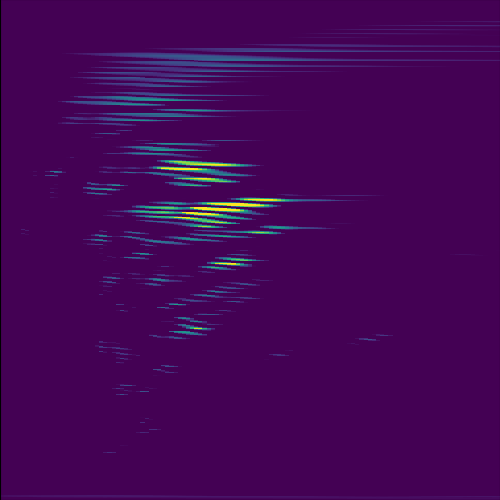semblance: (164, 192, 294, 229), (149, 157, 256, 188)
